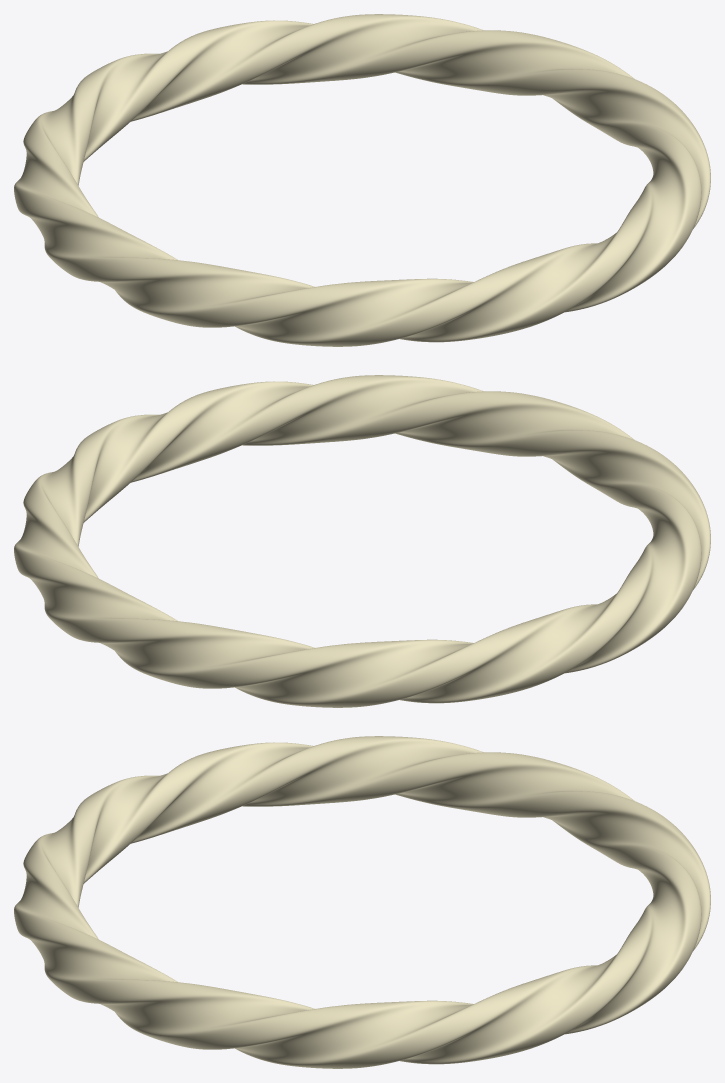
Rendered from cakeFillCream.glb.
3 views of the same model, one above another, from view 1: azimuth 30°, elevation 25°; view 2: azimuth 150°, elevation 25°; view 3: azimuth 270°, elevation 25° (orthographic).
Parts seen in each view (by area): view 1: Torus; view 2: Torus; view 3: Torus.
Part boxes in pixels (x1=…): Torus: x1=14, y1=14, x2=710, y2=346; Torus: x1=14, y1=375, x2=710, y2=707; Torus: x1=14, y1=736, x2=710, y2=1068.
Bounding box in the file's own units: 1.95 × 0.1871 × 1.95.
